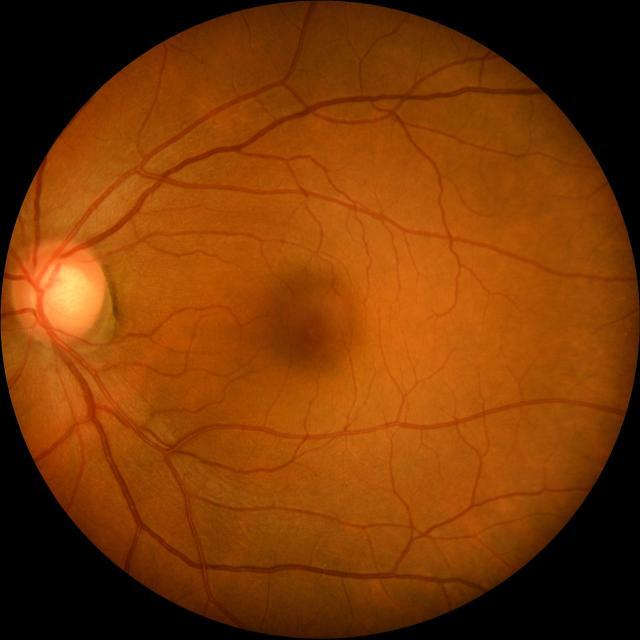OC: (34, 262, 90, 326)
OD: (12, 240, 105, 344)
